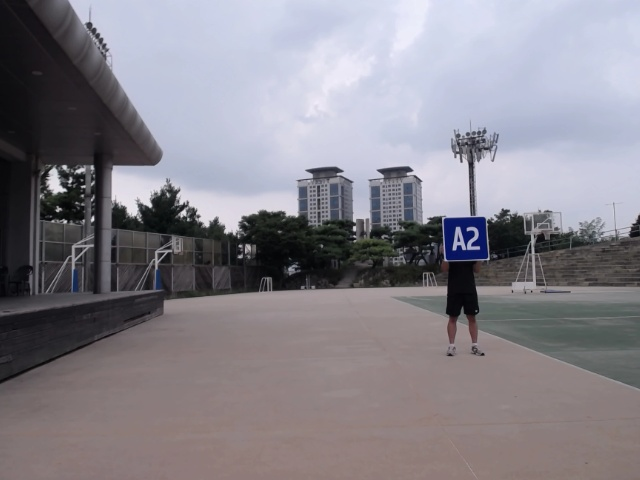delivery_a2: (443, 216, 489, 261)
